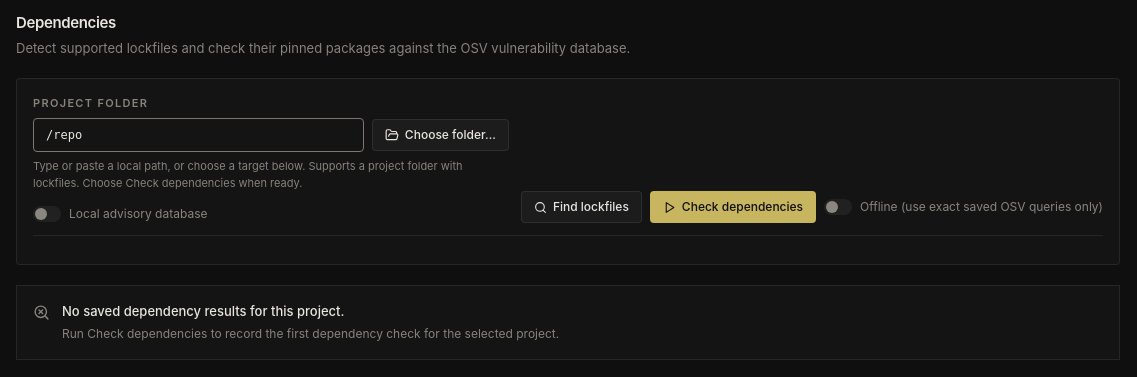
Test: discovery of a newly typed target keeps fresh inventory instead of restoring an older saved projection
Expected: the text "No saved dependency results for this project." is shown, [62,303,344,319]
Replace the text in the field named "Project folder path" with "/typed-project" at coordinates (198, 134), box [33,118,364,152]
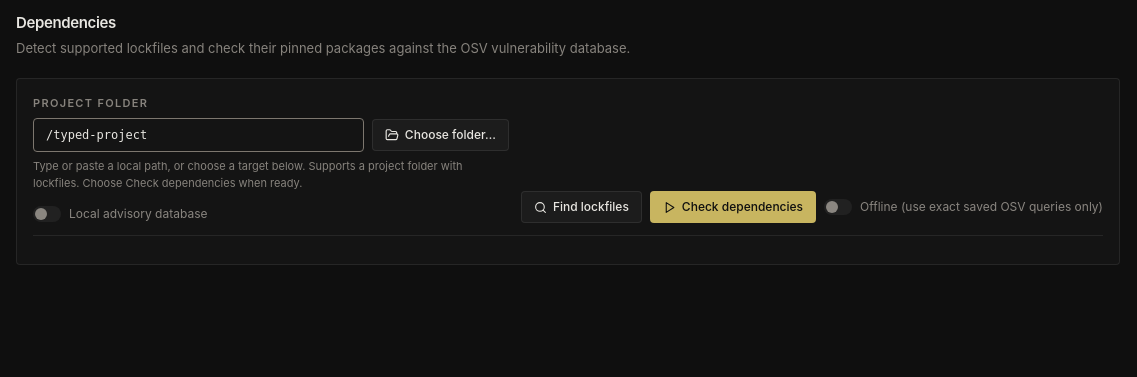
Click the button "Find lockfiles" at coordinates (581, 207), box [521,191,642,223]
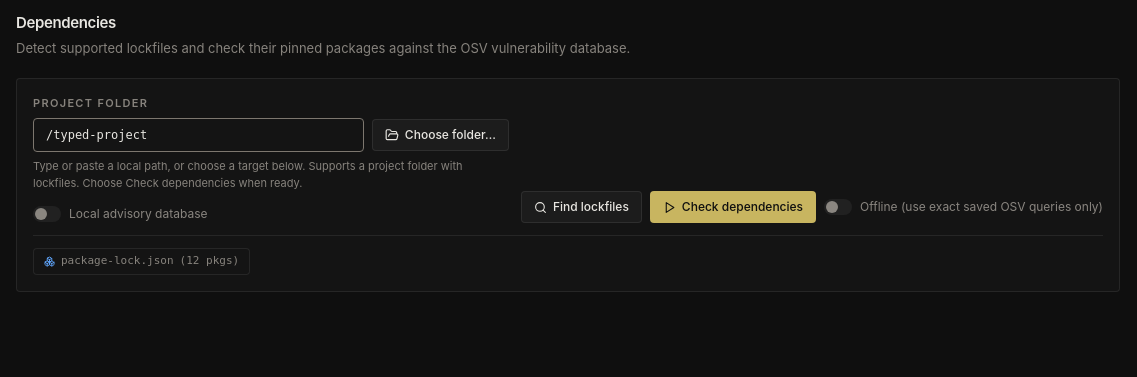
Expected: the element named "Detected lockfiles" does not show "Pipfile.lock", [33,248,250,275]
Now the element named "Detected lockfiles" shows "(12 pkgs)", box [180,254,239,267]
